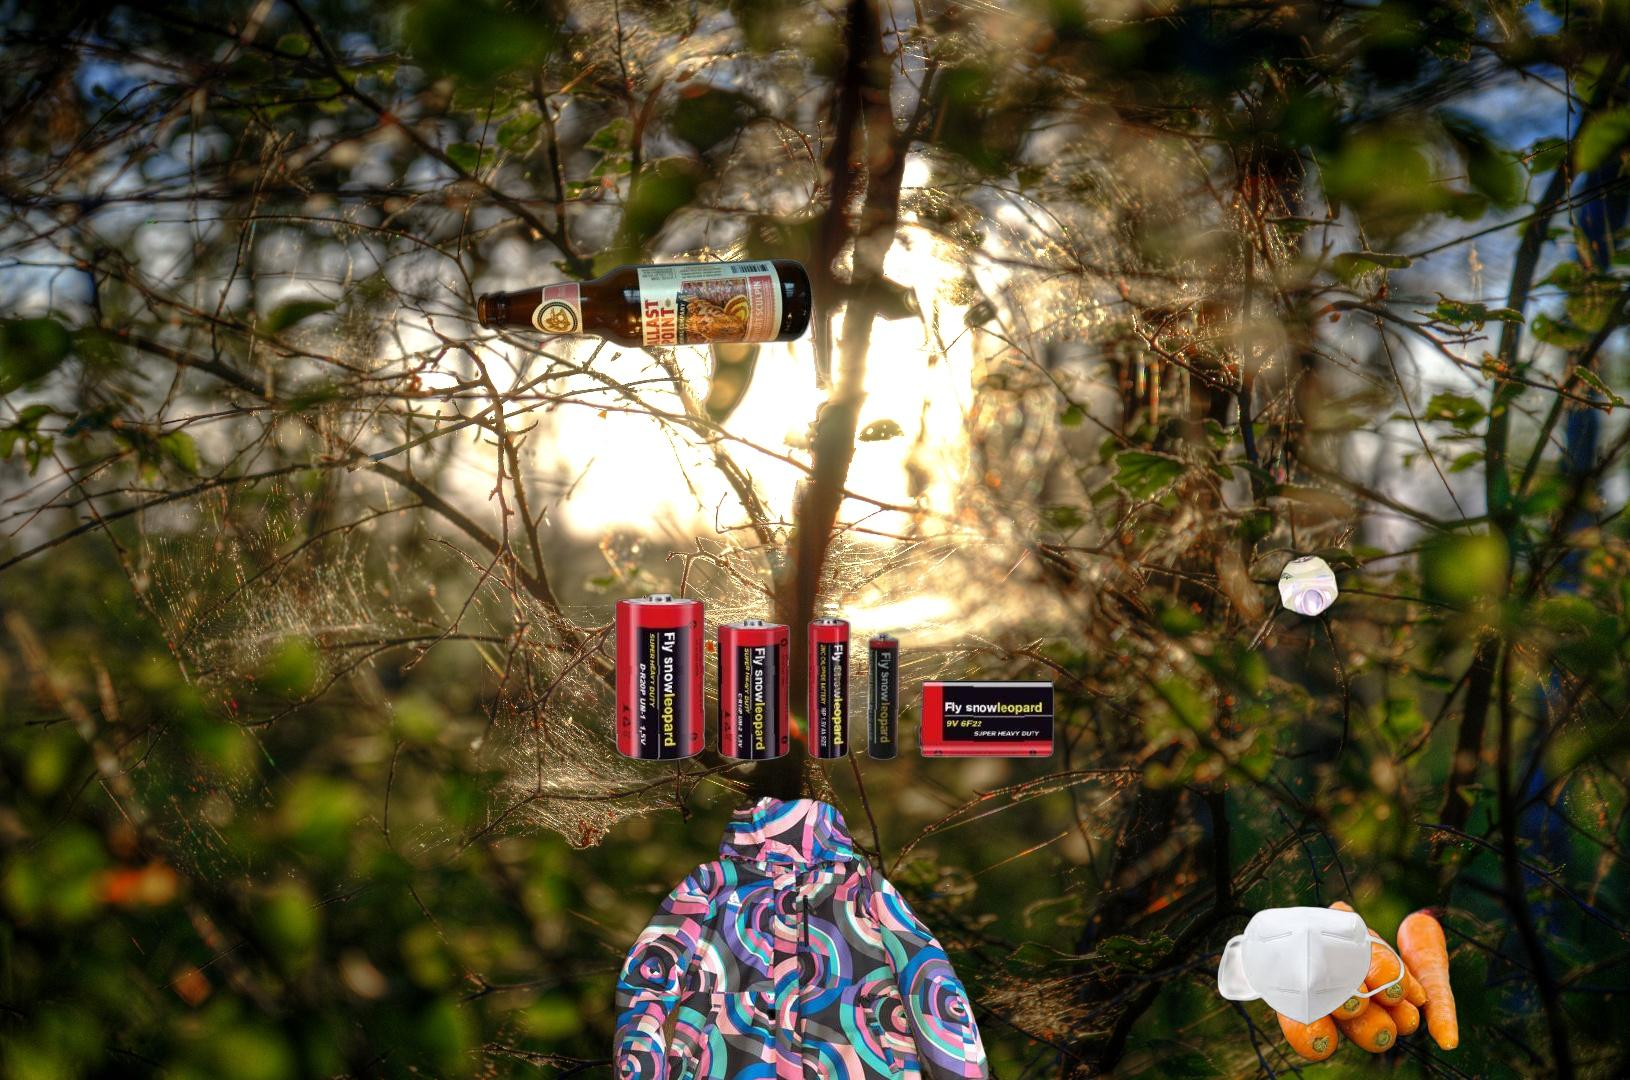battery: (611, 591, 1059, 764)
biological: (1199, 898, 1475, 1064)
clothes: (604, 793, 1004, 1080)
glass: (472, 256, 817, 350)
metal-cans: (1273, 548, 1344, 623)
trash: (1216, 903, 1408, 1027)
